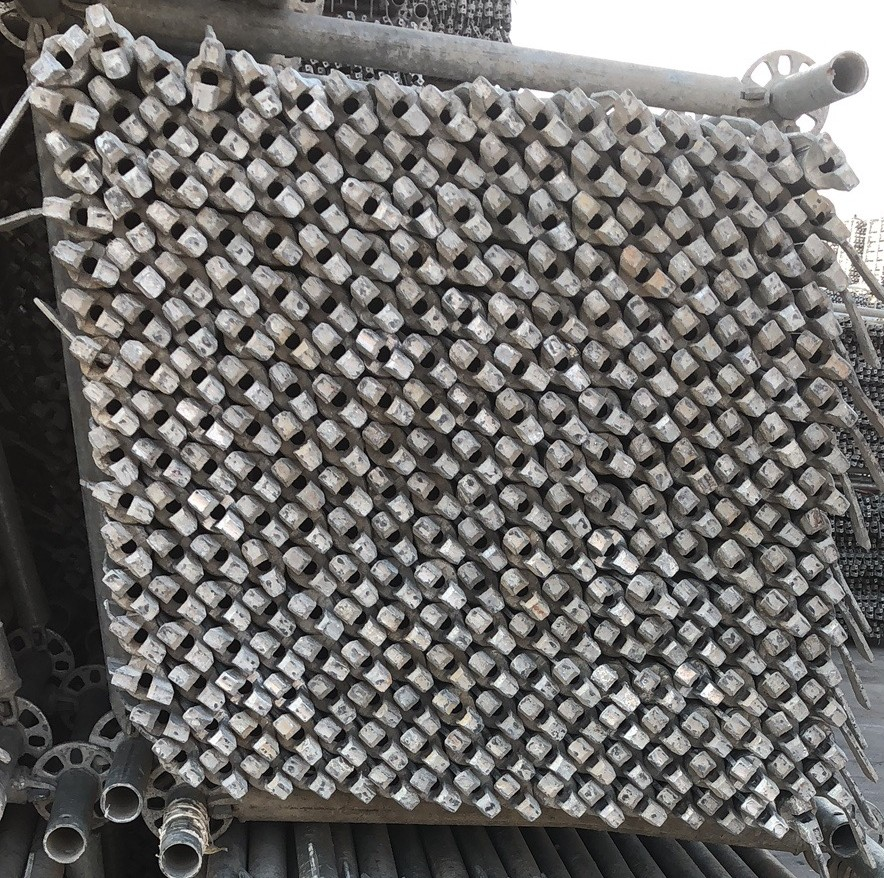NHsquare_steel: (132, 33, 186, 105), (89, 78, 148, 143), (96, 130, 152, 198), (83, 1, 130, 81), (277, 64, 333, 131), (515, 83, 573, 147), (29, 83, 99, 136), (44, 129, 101, 194), (28, 25, 91, 83), (375, 71, 430, 136), (146, 201, 208, 258), (203, 252, 259, 315), (471, 73, 524, 139), (623, 147, 680, 208), (108, 239, 164, 301), (614, 87, 666, 153), (146, 151, 206, 208), (235, 44, 281, 118), (423, 78, 476, 142), (101, 187, 153, 252), (196, 207, 254, 265), (142, 98, 198, 158), (438, 182, 494, 242), (247, 158, 302, 219), (59, 287, 123, 339), (153, 252, 212, 308), (523, 139, 577, 200), (340, 177, 402, 230), (50, 239, 118, 287), (38, 193, 112, 237), (66, 338, 131, 388), (195, 154, 252, 211), (437, 286, 494, 343), (215, 354, 273, 410), (448, 337, 507, 392), (573, 139, 627, 199), (112, 293, 172, 347), (712, 117, 765, 178), (327, 68, 378, 131), (565, 86, 616, 149), (337, 125, 393, 182), (434, 229, 489, 287), (165, 297, 217, 358), (672, 251, 721, 315), (252, 266, 308, 322), (482, 243, 539, 298), (346, 278, 403, 333), (132, 389, 186, 447), (189, 34, 229, 112), (807, 131, 859, 191), (188, 108, 248, 160), (292, 122, 344, 182), (425, 136, 485, 188), (221, 405, 281, 457), (481, 184, 532, 245), (240, 112, 296, 167), (488, 293, 543, 349), (176, 399, 235, 451), (184, 489, 243, 541), (216, 310, 276, 361), (171, 349, 225, 405), (82, 382, 138, 436), (386, 130, 438, 188), (297, 172, 347, 232), (301, 224, 351, 284), (267, 360, 317, 420), (529, 188, 577, 250), (620, 247, 675, 301), (268, 314, 321, 370), (540, 334, 591, 392), (271, 411, 321, 470), (310, 324, 364, 378), (247, 212, 302, 265), (123, 340, 178, 393), (147, 530, 202, 583), (99, 522, 152, 577), (344, 229, 400, 281), (666, 107, 716, 165), (710, 216, 756, 279), (395, 176, 443, 236), (304, 279, 358, 332), (404, 333, 457, 387), (312, 376, 367, 428), (225, 451, 280, 503), (583, 291, 634, 347), (316, 421, 367, 477), (665, 208, 715, 265), (88, 430, 138, 487), (580, 339, 638, 388), (167, 663, 227, 710), (362, 422, 415, 475), (618, 199, 672, 251), (405, 381, 457, 435), (180, 442, 235, 493), (357, 330, 413, 380), (103, 572, 159, 622), (155, 622, 211, 672), (397, 279, 446, 336), (674, 349, 723, 406), (716, 265, 762, 325), (494, 435, 547, 487), (576, 191, 626, 246), (717, 362, 767, 417), (762, 217, 807, 278), (494, 342, 550, 391), (717, 172, 765, 229), (671, 303, 719, 360), (215, 670, 273, 717), (484, 134, 530, 193), (760, 118, 803, 181), (275, 458, 326, 511), (759, 272, 804, 332), (284, 546, 338, 596), (91, 481, 155, 523), (108, 617, 164, 665), (759, 318, 804, 377), (131, 441, 190, 486), (630, 390, 681, 442), (496, 390, 545, 444), (549, 438, 597, 493), (329, 553, 377, 608), (182, 708, 237, 756), (457, 474, 504, 530), (672, 154, 713, 218), (801, 234, 847, 291), (630, 483, 676, 540), (761, 369, 811, 421), (314, 718, 366, 768), (534, 294, 587, 343), (631, 343, 680, 396), (716, 541, 765, 594), (354, 722, 407, 771), (410, 767, 464, 815), (317, 468, 372, 515), (579, 243, 625, 299), (358, 379, 414, 425), (193, 536, 249, 582), (242, 539, 286, 597), (395, 234, 445, 285), (809, 377, 859, 428), (409, 428, 459, 479), (327, 508, 376, 560), (641, 705, 693, 754), (802, 188, 850, 241), (195, 584, 249, 631), (534, 243, 580, 298), (455, 431, 501, 486), (674, 436, 716, 496), (502, 527, 552, 577), (716, 586, 766, 636), (501, 571, 551, 621), (341, 642, 391, 692), (146, 485, 195, 536), (290, 593, 341, 642), (544, 483, 591, 536), (152, 578, 205, 625), (151, 739, 204, 786), (759, 173, 805, 227), (376, 605, 430, 651), (407, 473, 462, 518), (202, 629, 257, 674), (109, 669, 174, 707), (252, 632, 302, 681), (305, 675, 355, 724), (452, 770, 501, 820), (449, 388, 500, 436), (541, 392, 589, 443), (237, 496, 288, 544), (672, 579, 723, 627), (200, 750, 248, 801), (367, 470, 414, 522), (264, 674, 316, 721), (800, 333, 854, 378), (348, 683, 402, 728), (673, 486, 722, 535), (475, 689, 524, 738), (632, 432, 672, 492), (274, 715, 322, 765), (631, 528, 678, 579), (549, 529, 595, 581), (627, 575, 679, 621), (628, 298, 673, 351), (420, 607, 473, 652), (579, 389, 633, 433), (587, 577, 635, 626), (374, 560, 422, 609), (762, 671, 810, 720), (231, 712, 279, 761), (284, 503, 331, 553), (414, 517, 464, 564), (459, 519, 506, 569), (248, 587, 295, 637), (466, 609, 516, 656), (516, 693, 566, 740), (371, 766, 421, 813), (678, 397, 723, 449), (715, 454, 760, 506), (295, 636, 347, 681), (125, 708, 190, 744), (240, 756, 292, 801), (800, 283, 841, 340), (716, 315, 757, 372), (595, 705, 649, 748), (763, 413, 805, 468), (718, 669, 766, 717), (761, 590, 810, 637), (545, 575, 592, 624), (460, 564, 507, 613), (805, 423, 851, 473), (395, 686, 441, 736), (501, 486, 552, 531), (588, 530, 639, 575), (325, 759, 376, 804), (373, 514, 416, 567), (283, 758, 336, 801), (337, 600, 385, 647), (718, 628, 765, 676), (426, 644, 474, 691), (802, 679, 849, 727), (580, 782, 626, 831), (509, 613, 559, 658), (468, 651, 518, 696), (730, 758, 780, 803), (673, 529, 717, 580), (764, 545, 808, 596), (397, 728, 448, 772), (587, 433, 635, 479), (384, 644, 432, 690), (495, 774, 541, 822), (804, 596, 849, 645), (698, 791, 747, 836), (552, 619, 602, 663), (762, 629, 806, 679), (719, 409, 761, 461), (584, 488, 637, 529), (802, 469, 849, 515), (593, 666, 640, 712), (568, 738, 614, 785), (635, 668, 684, 712), (435, 689, 484, 733), (416, 565, 466, 608), (595, 623, 646, 665), (681, 713, 732, 755), (559, 701, 610, 743), (444, 733, 496, 774), (554, 661, 600, 707), (606, 743, 651, 790), (526, 737, 576, 779), (617, 786, 667, 828), (809, 764, 855, 809), (759, 461, 803, 508), (641, 618, 685, 665), (739, 797, 788, 839), (716, 499, 761, 544), (678, 622, 724, 666), (726, 714, 773, 757), (692, 754, 735, 801), (756, 507, 806, 547), (802, 725, 847, 769), (513, 656, 559, 699), (488, 738, 534, 781), (803, 556, 845, 603), (650, 747, 692, 794), (542, 775, 586, 819), (678, 665, 723, 708), (659, 789, 705, 831), (804, 508, 839, 563), (768, 712, 805, 762), (774, 757, 815, 802), (807, 636, 842, 687), (789, 797, 824, 845)
circle_steel: (42, 815, 88, 865), (96, 782, 144, 826), (827, 48, 870, 96), (154, 840, 205, 878), (828, 819, 867, 858)
